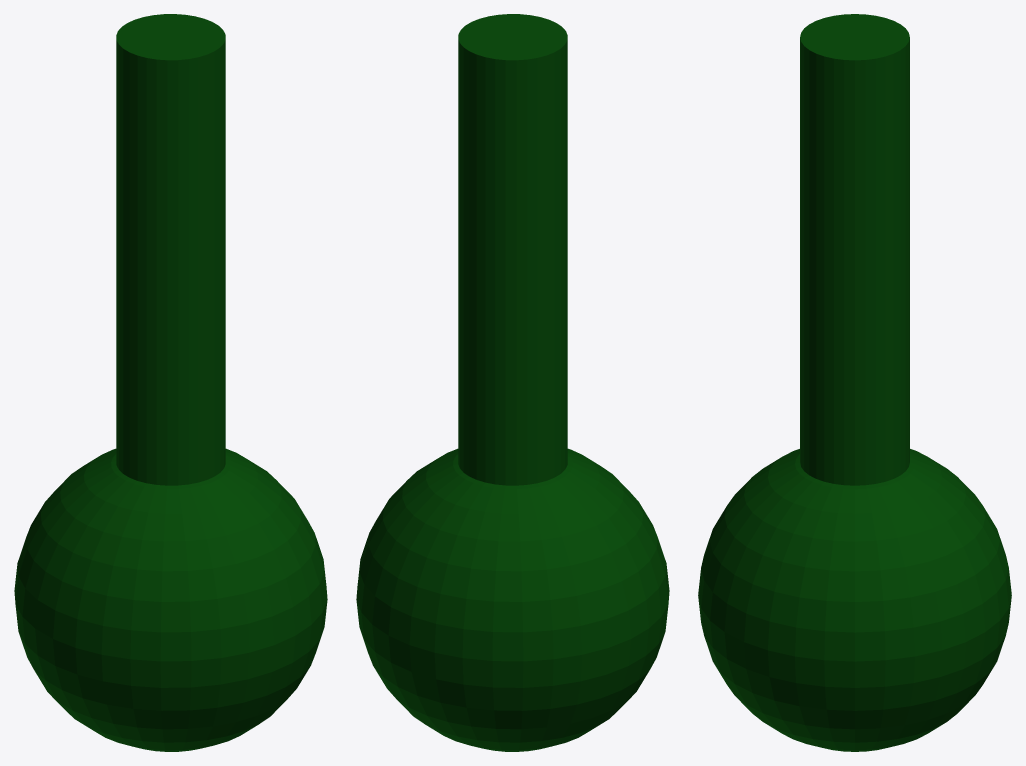
File: buoy_green.obj
The picture shows the model from 3 angles, left to right: view 1: azimuth 30°, elevation 25°; view 2: azimuth 150°, elevation 25°; view 3: azimuth 270°, elevation 25°; orthographic projection.
Visible parts, largest first — view 1: Sphere, Cylinder.018; view 2: Sphere, Cylinder.018; view 3: Sphere, Cylinder.018.
Part boxes in pixels (left/top/right/bottom): Sphere: left=14, top=448, right=327, bottom=751; Cylinder.018: left=116, top=14, right=225, bottom=485; Sphere: left=356, top=448, right=669, bottom=751; Cylinder.018: left=458, top=14, right=567, bottom=485; Sphere: left=698, top=449, right=1011, bottom=751; Cylinder.018: left=800, top=14, right=909, bottom=485.
Bounding box in the file's own units: 0.4 × 0.985 × 0.4.
